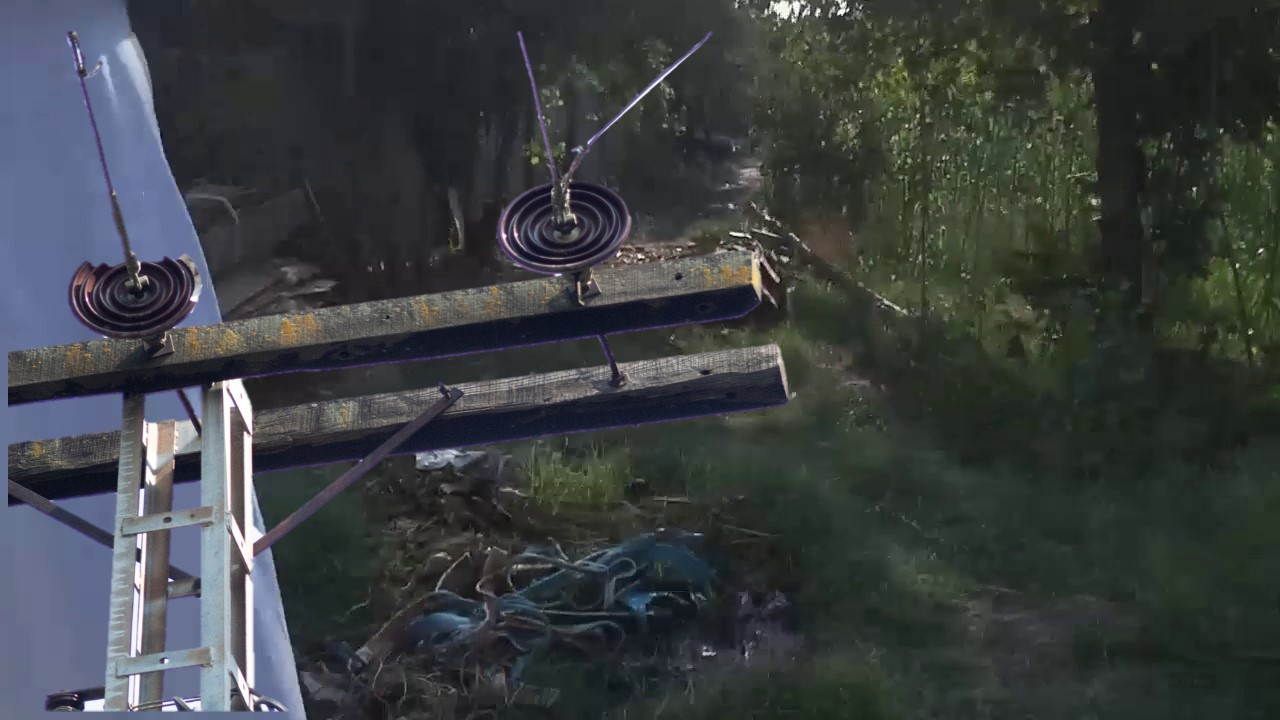defect_disc: (71, 243, 208, 338)
insulator_disc: (495, 171, 637, 274)
